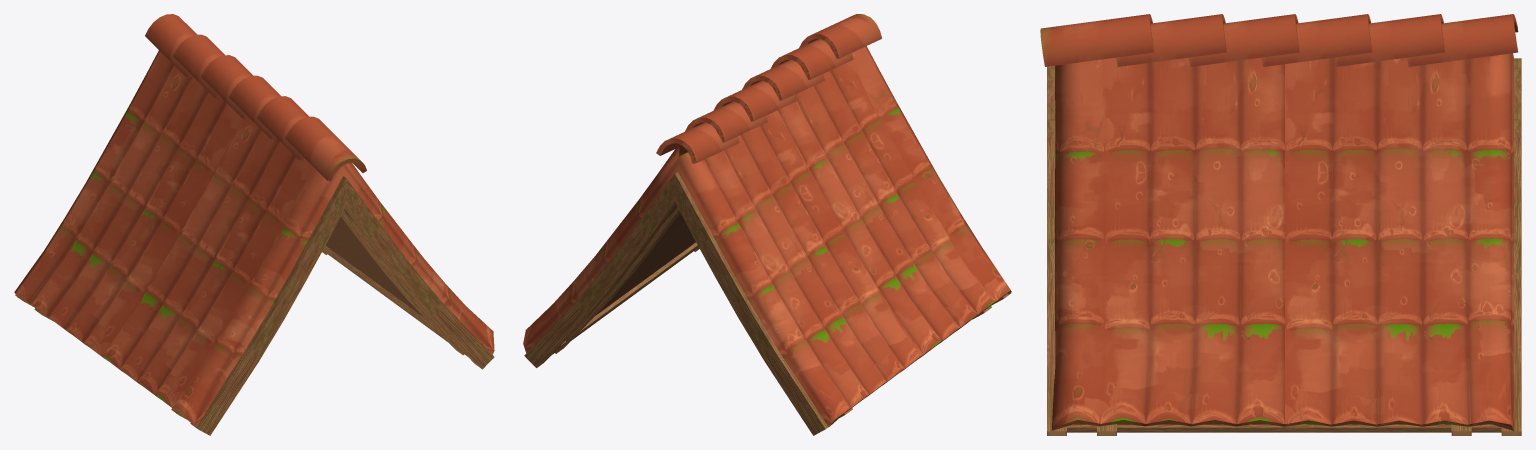
File: Roof_RoundTiles_4x4.gltf
The picture shows the model from 3 angles, left to right: view 1: azimuth 30°, elevation 25°; view 2: azimuth 150°, elevation 25°; view 3: azimuth 270°, elevation 25°; orthographic projection. The views are drawn at different scales.
Visible parts, largest first — view 1: Roof_RoundTiles_4x4; view 2: Roof_RoundTiles_4x4; view 3: Roof_RoundTiles_4x4.
Part boxes in pixels (box(x1,y1,x2,y2)): Roof_RoundTiles_4x4: box(14, 14, 494, 435); Roof_RoundTiles_4x4: box(523, 14, 1011, 435); Roof_RoundTiles_4x4: box(1040, 14, 1521, 435).
Size of the model in its own units: 5.51 by 4.25 by 5.56.
Materials: 2 (2 with a texture image).
